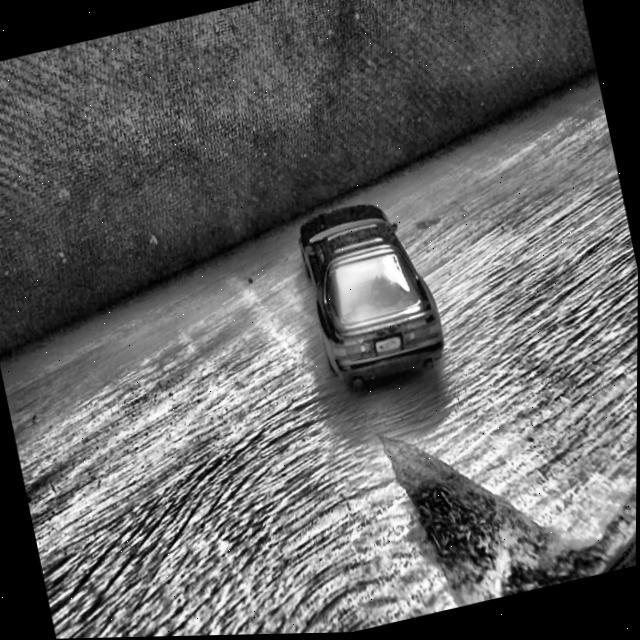car: (291, 190, 452, 398)
